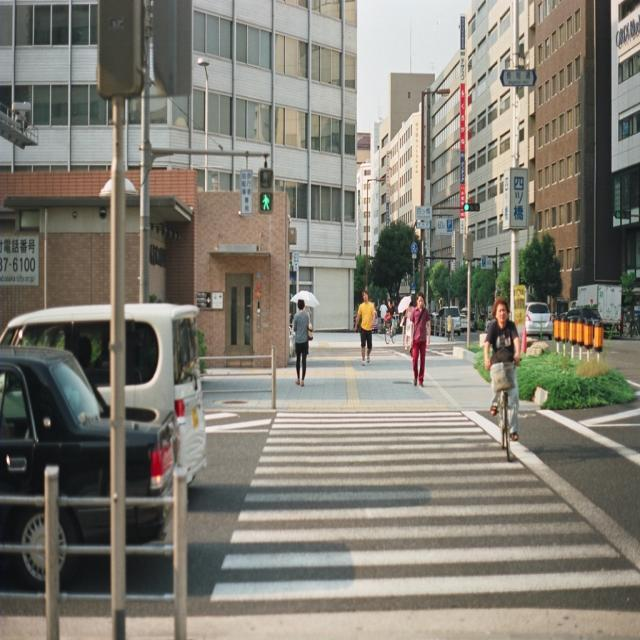traffic light: (258, 170, 275, 211), (465, 203, 480, 211)
